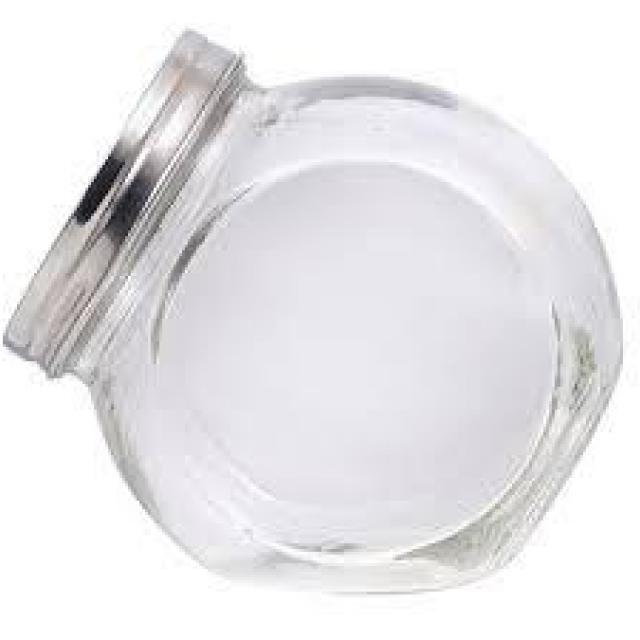glass: (1, 26, 630, 600)
